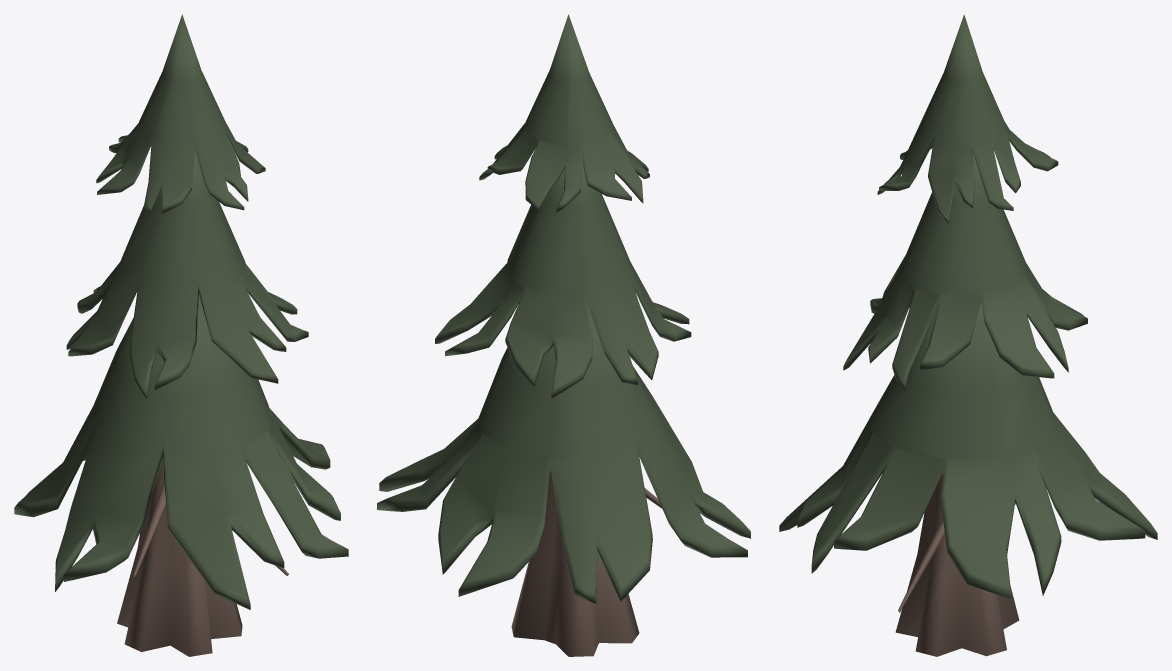
File: PineTree.fbx
3 views of the same model, side by side, from view 1: azimuth 30°, elevation 25°; view 2: azimuth 150°, elevation 25°; view 3: azimuth 270°, elevation 25° (orthographic).
Parts seen in each view (by area): view 1: pCylinder55; view 2: pCylinder55; view 3: pCylinder55.
Boxes of the visible parts, left/top/right/bottom form: pCylinder55: left=14, top=14, right=348, bottom=656; pCylinder55: left=377, top=14, right=750, bottom=656; pCylinder55: left=779, top=14, right=1157, bottom=656.
Bounding box in the file's own units: 2.25 × 4.15 × 2.29.
